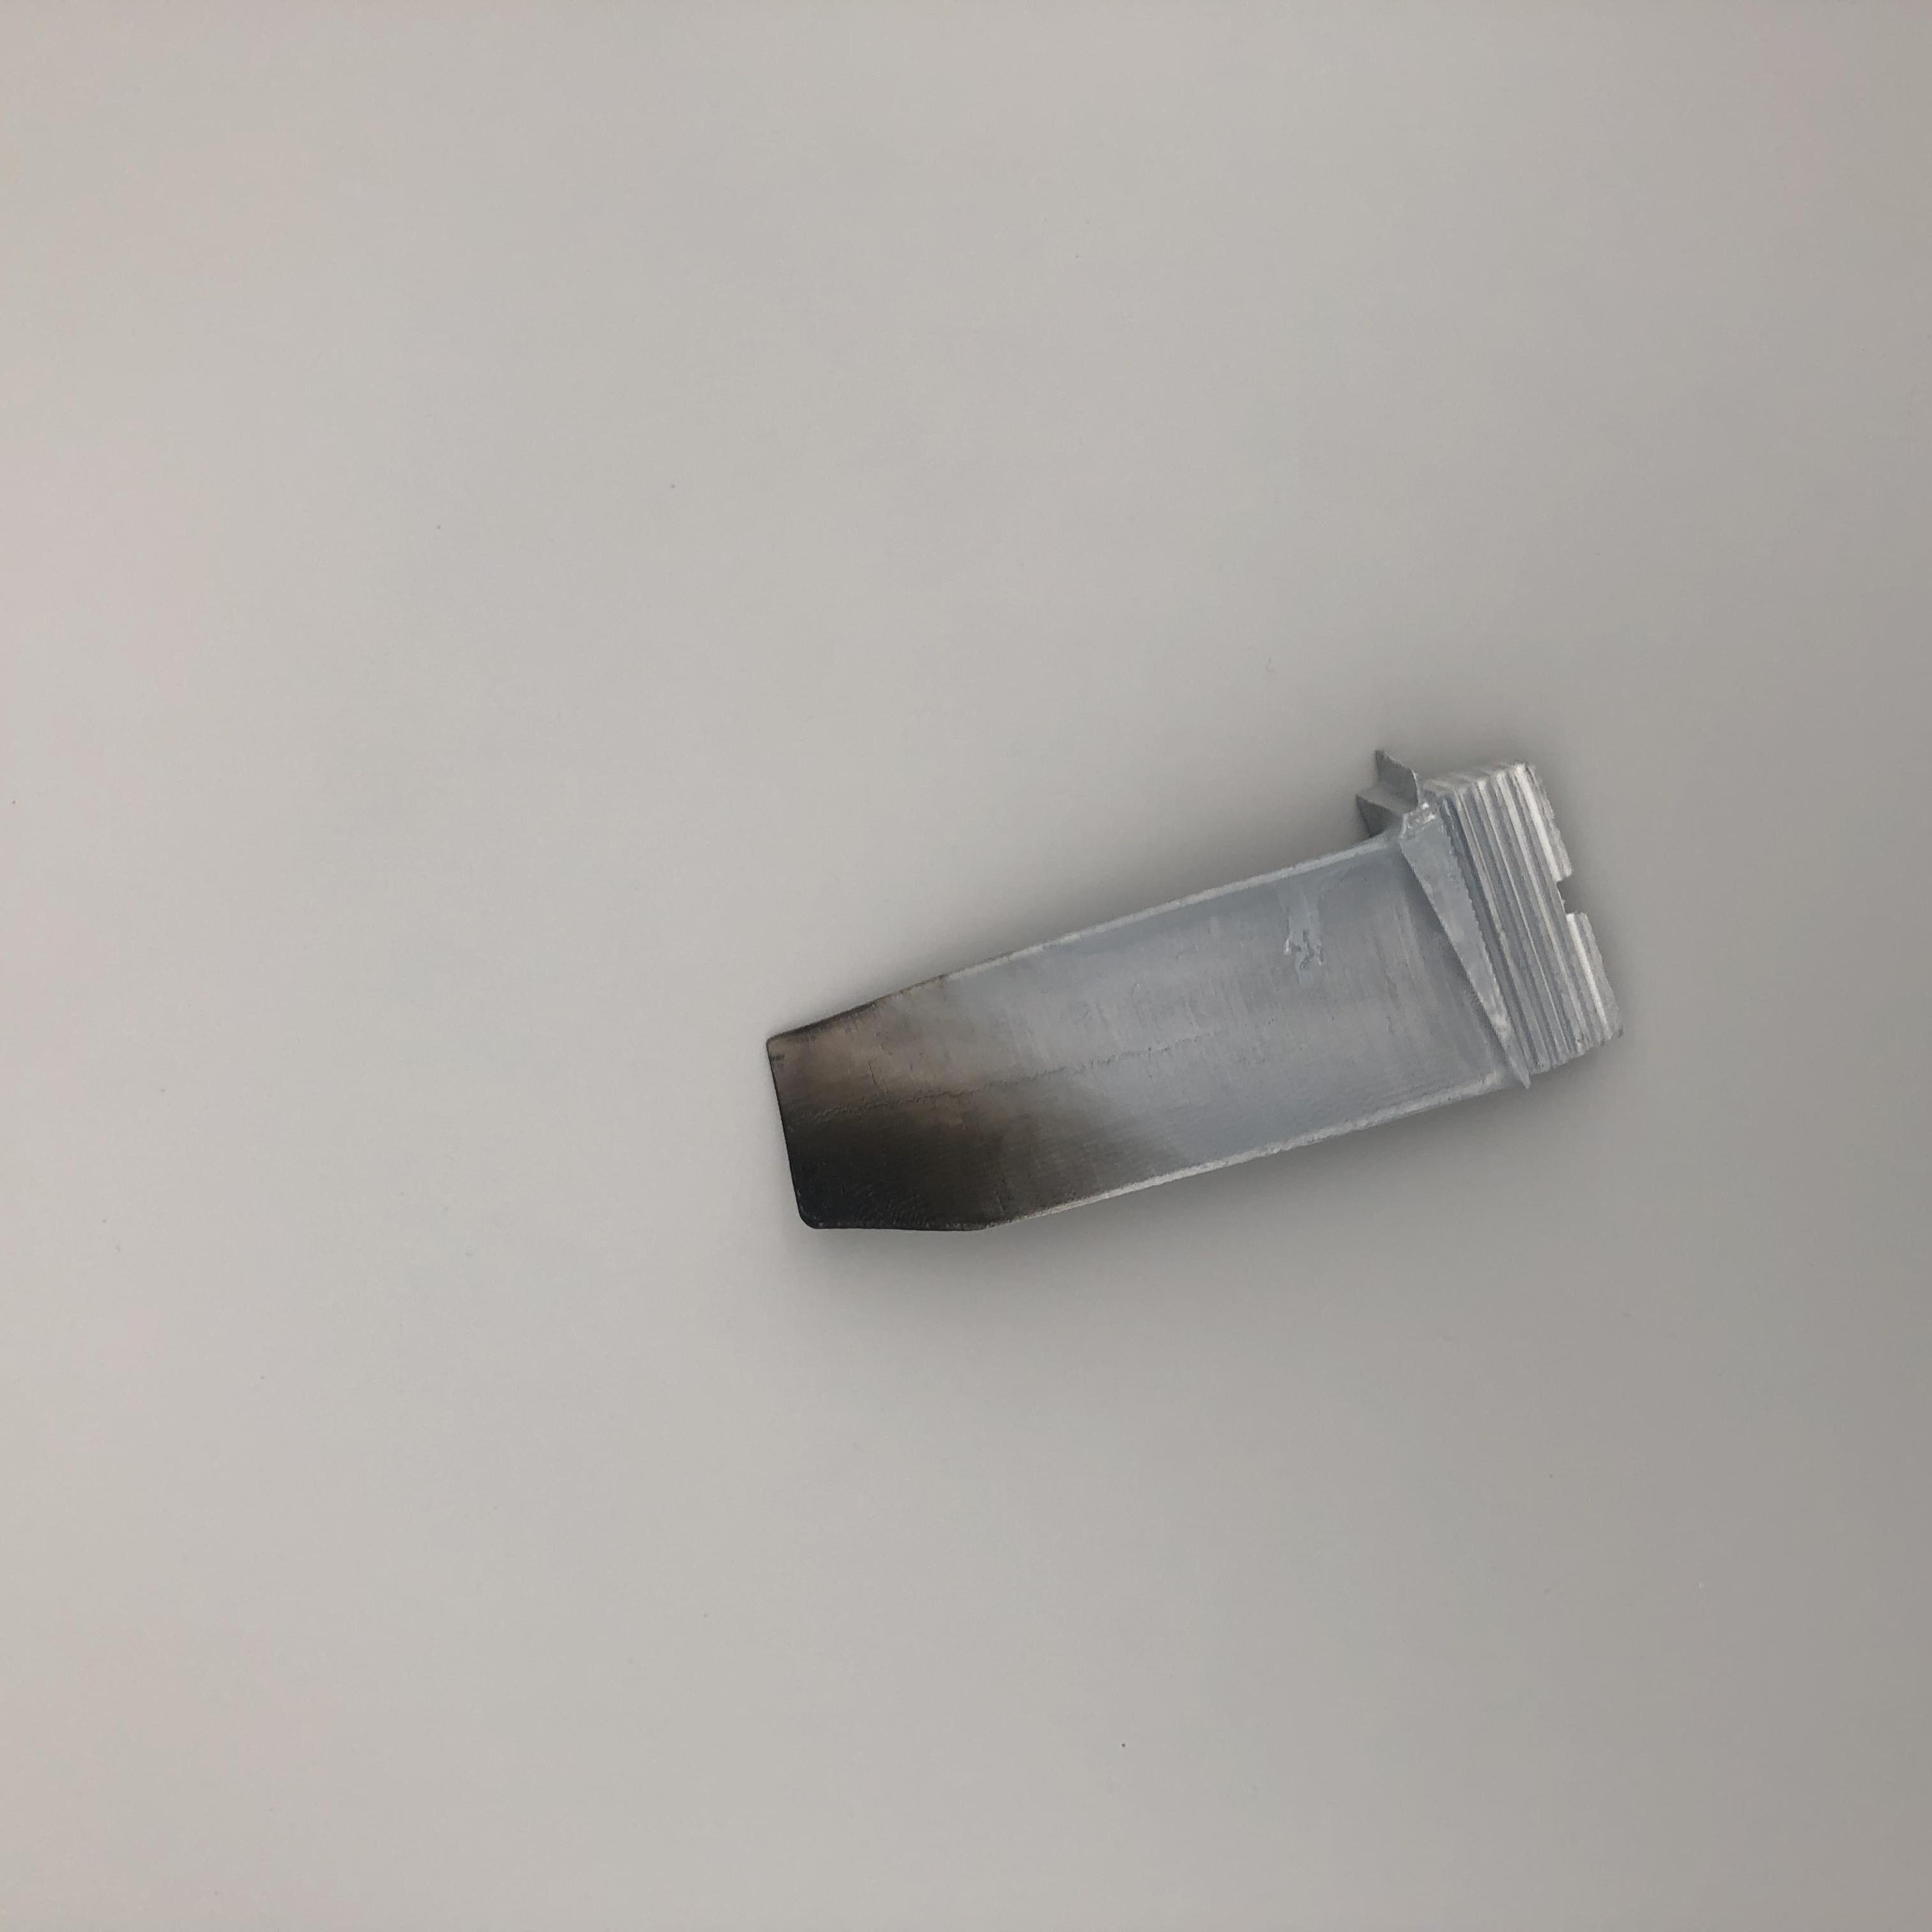ablation: (786, 1051, 1104, 1221)
